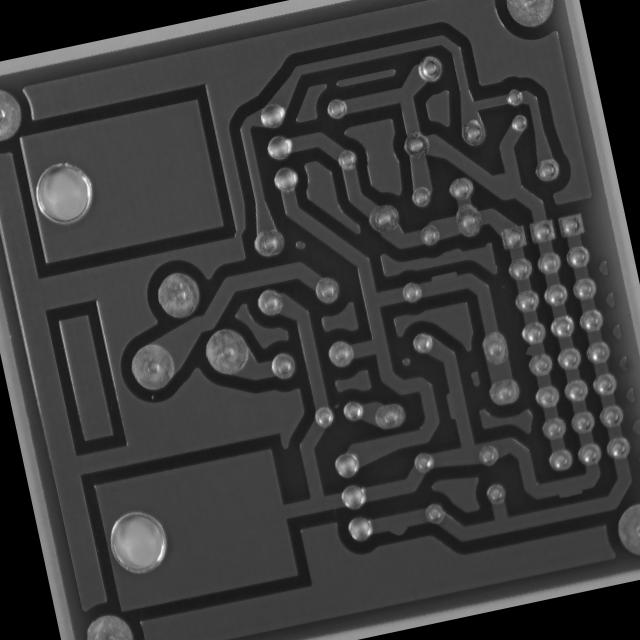spur: (441, 383, 465, 428), (425, 265, 464, 289), (517, 334, 546, 364), (554, 480, 588, 500), (385, 518, 413, 540)
